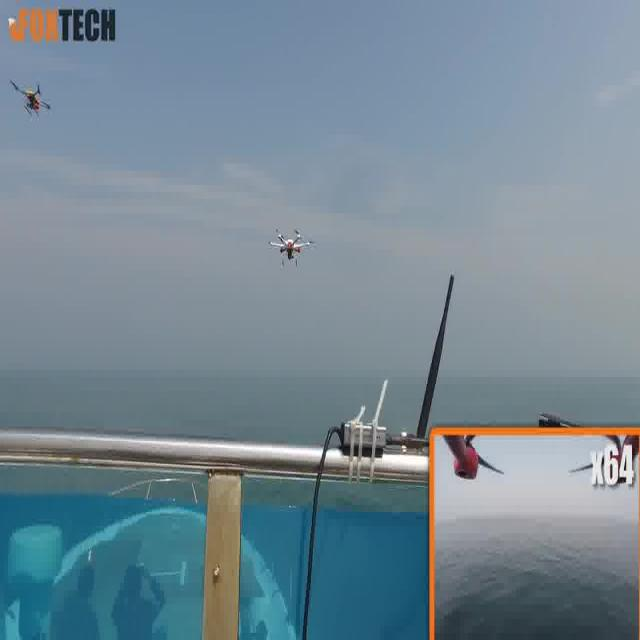Drone_FW: (262, 221, 318, 279), (8, 77, 58, 135)
